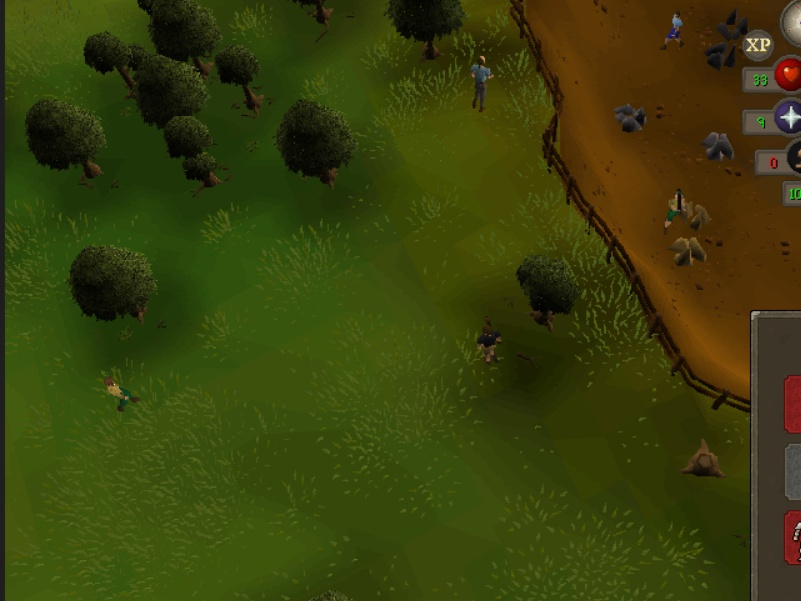clay: (672, 233, 708, 271), (677, 192, 713, 230)
tin: (612, 96, 648, 134), (700, 126, 736, 164)
